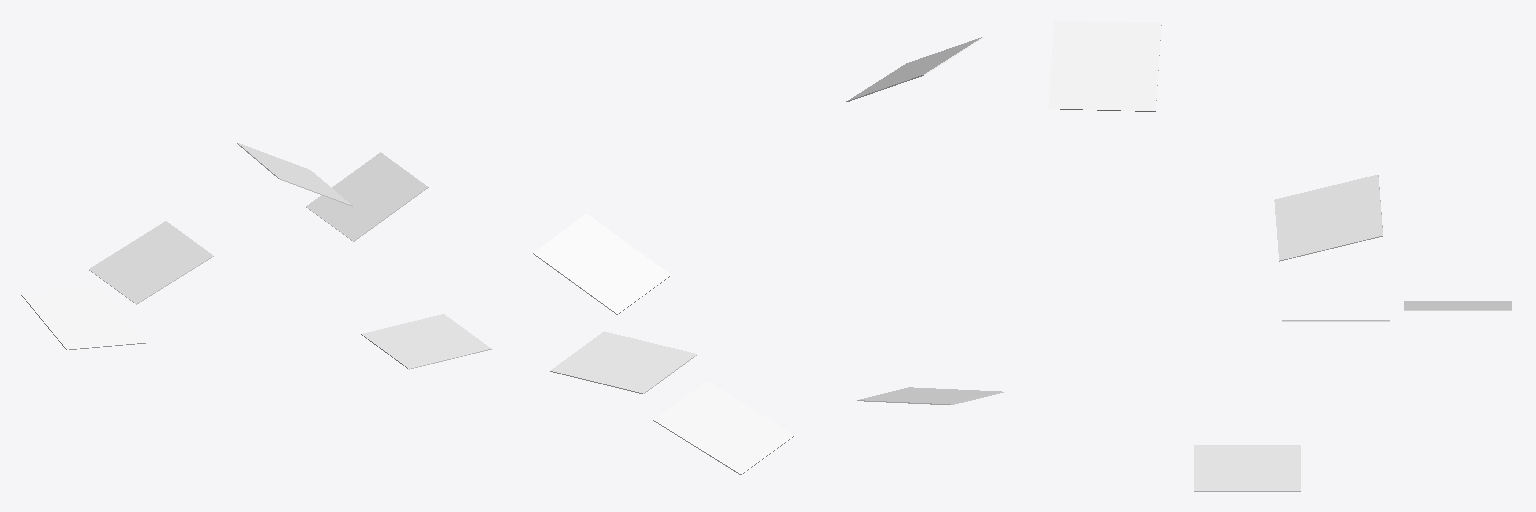
The robot description file, URDF, robot "overview":
<robot name="overview">
  <link name="base_link">
    <visual>
      <origin xyz="0 0 0" rpy="0 0 0" />
      <geometry>
        <mesh filename="package://hpp-rbprm-corba/meshes/overview.stl"/>
      </geometry>
      <material name="white">
        <color rgba="1 1 1 1"/>
      </material>
    </visual>
    <collision>
      <origin xyz="0 0 0" rpy="0 0 0" />
      <geometry>
        <mesh filename="package://hpp-rbprm-corba/meshes/overview.stl"/>
      </geometry>
    </collision>
  </link>
</robot>

--- Facts derived from the render (not from the file) ---
The picture shows the robot from 3 angles, left to right: view 1: azimuth 30°, elevation 25°; view 2: azimuth 150°, elevation 25°; view 3: azimuth 270°, elevation 25°; orthographic projection.
Robot: overview — 1 links, 0 joints (none); root link base_link; default pose: all joints at 0.
Visible links, largest first — view 1: base_link; view 2: base_link; view 3: base_link.
Link boxes in pixels (x1,y1,x2,y2): base_link: [21, 143, 491, 369]; base_link: [533, 37, 1003, 474]; base_link: [1048, 20, 1511, 491].
Size in the robot's own frame: 1.11 by 1.02 by 0.7736 metres.
Meshes: 1 distinct files referenced, 1 mesh visuals loaded (1 binary STL).